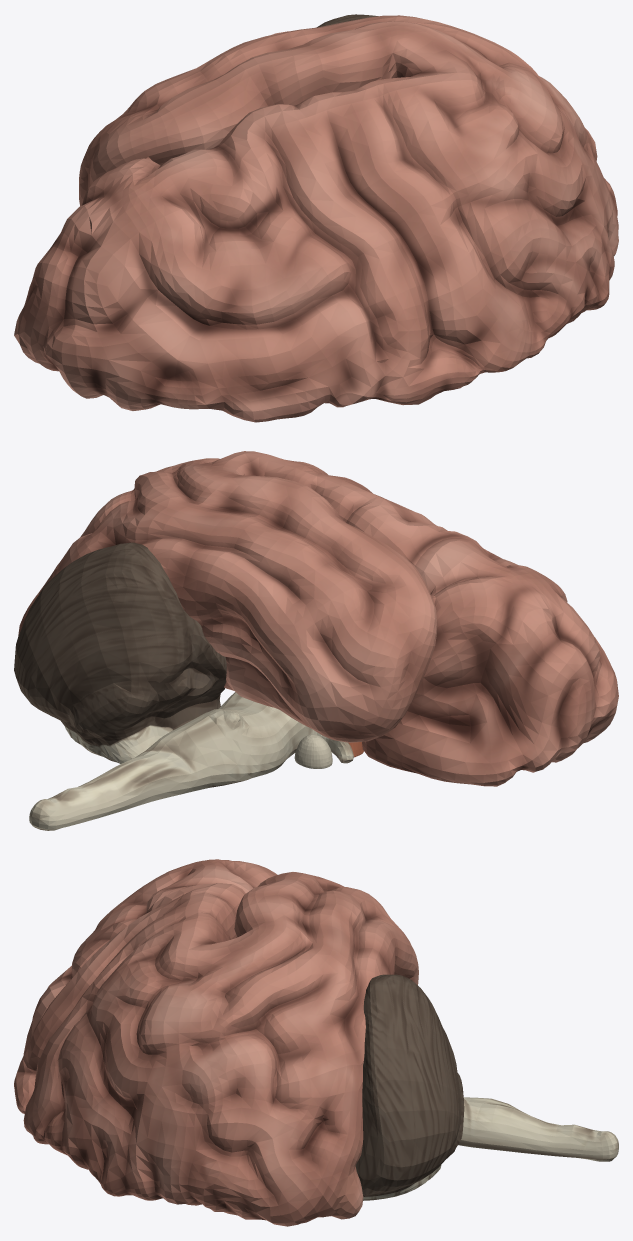
Rendered from Human brain.obj.
3 views of the same model, one above another, from view 1: azimuth 30°, elevation 25°; view 2: azimuth 150°, elevation 25°; view 3: azimuth 270°, elevation 25° (orthographic). The views are drawn at different scales.
Visible parts, largest first — view 1: Object.1; view 2: Object.1; view 3: Object.1.
Boxes of the visible parts, box(x1,y1,x2,y2) form: Object.1: box(14, 14, 618, 422); Object.1: box(14, 451, 618, 830); Object.1: box(14, 859, 618, 1226).
Size of the model in its own units: 62.65 by 26.5 by 62.43.
1 material, 1 textured.
